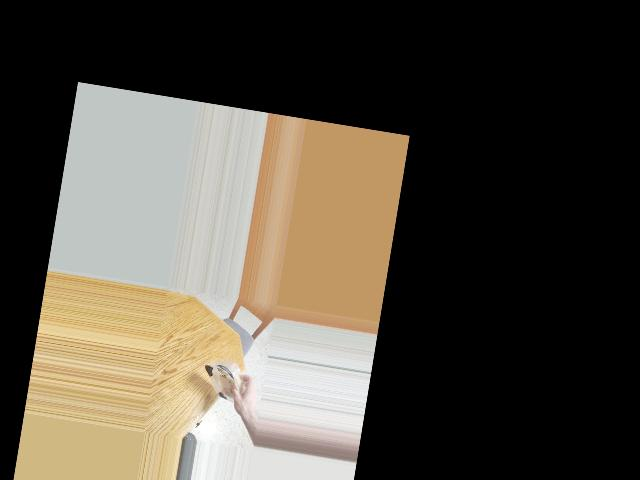cheese: (200, 352, 247, 416)
